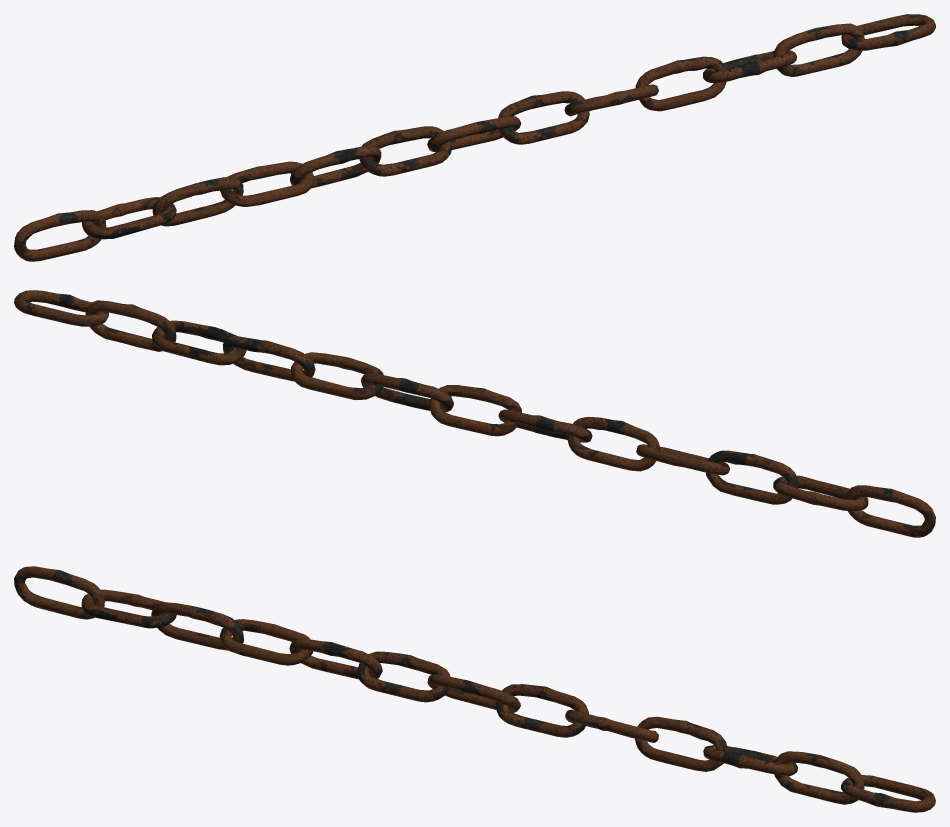
Rendered from chain.glb.
3 views of the same model, one above another, from view 1: azimuth 30°, elevation 25°; view 2: azimuth 150°, elevation 25°; view 3: azimuth 330°, elevation 25° (orthographic).
Parts seen in each view (by area): view 1: Aset_other__S_uc1uegjhx_00_LOD0.012; view 2: Aset_other__S_uc1uegjhx_00_LOD0.012; view 3: Aset_other__S_uc1uegjhx_00_LOD0.012.
Part boxes in pixels (x1,y1,x2,y2): Aset_other__S_uc1uegjhx_00_LOD0.012: (14, 14, 935, 261); Aset_other__S_uc1uegjhx_00_LOD0.012: (14, 290, 935, 537); Aset_other__S_uc1uegjhx_00_LOD0.012: (14, 566, 935, 812).
Size of the model in its own units: 6.78 by 0.2984 by 0.2983.
Materials: 1 (1 with a texture image).
